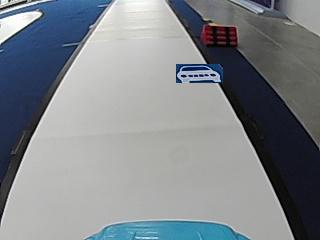bomb: (200, 23, 238, 45)
